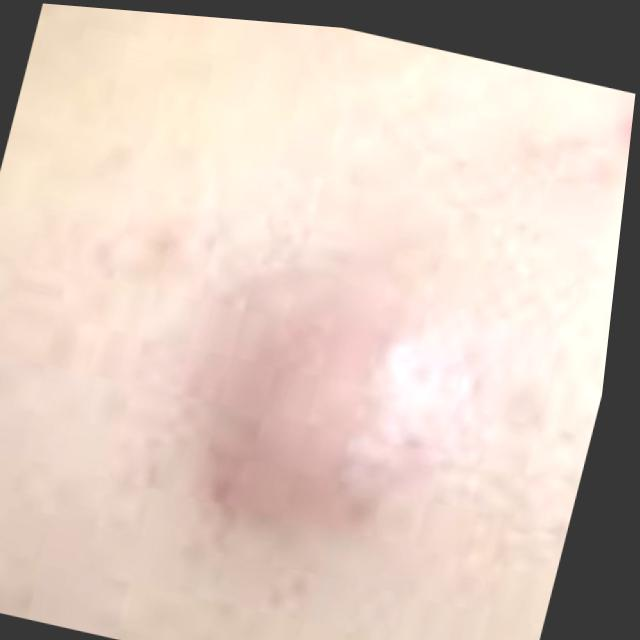nodule: (173, 258, 538, 552)
